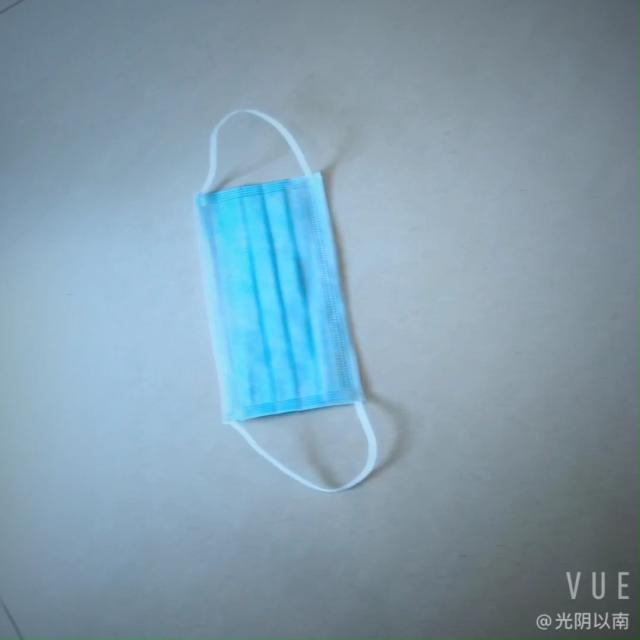non-organic waste: (184, 166, 366, 426)
